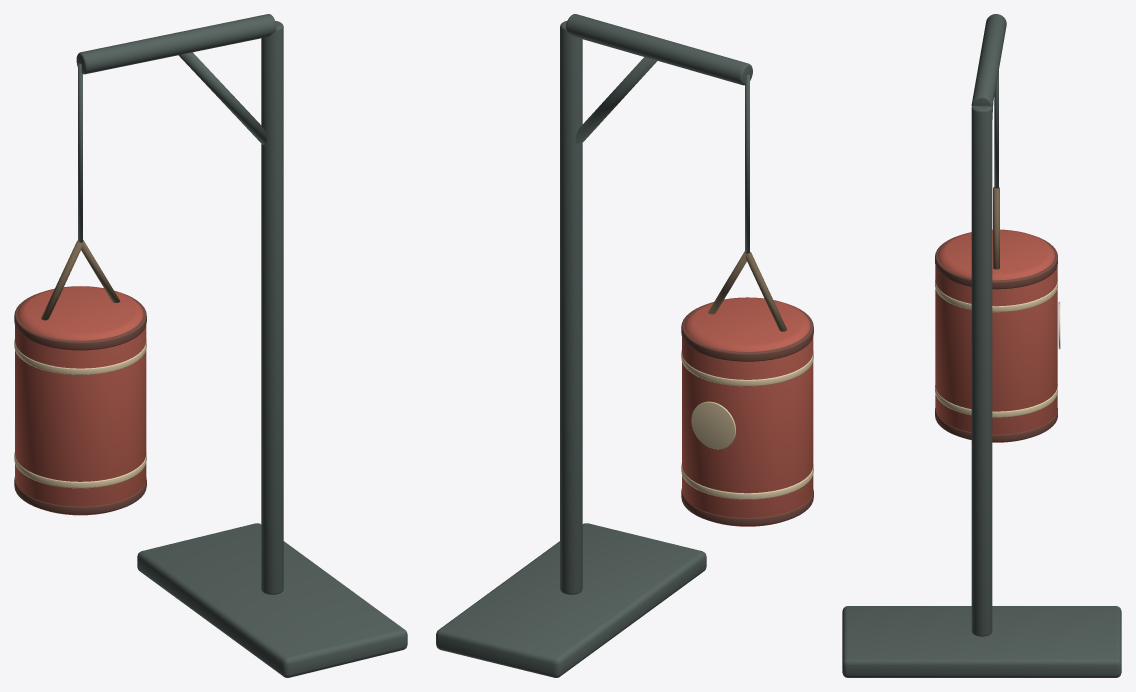
The model's file is punching_bag.glb.
3 renders of one model, left to right at view 1: azimuth 30°, elevation 25°; view 2: azimuth 150°, elevation 25°; view 3: azimuth 270°, elevation 25°, orthographic. The views are drawn at different scales.
Visible parts, largest first — view 1: Leather bag, Weighted support base, Upright, Top support, Leather binding.001, Diagonal brace, Leather binding, Cream band, Cream band.001, Hanging link, Suspension strap; view 2: Leather bag, Weighted support base, Upright, Top support, Round target, Leather binding.001, Diagonal brace, Leather binding, Cream band.001, Cream band, Hanging link, Suspension strap; view 3: Weighted support base, Leather bag, Upright, Top support, Leather binding.001, Leather binding, Cream band.001, Cream band, Suspension strap.001, Hanging link.
Boxes of the visible parts, x1,y1,x2,y2 form: Leather bag: (15,286,146,515); Weighted support base: (137,523,407,677); Upright: (261,21,283,594); Top support: (76,14,276,74); Leather binding.001: (14,292,146,350); Diagonal brace: (179,52,266,144); Leather binding: (14,477,146,514); Cream band: (14,452,146,488); Cream band.001: (14,339,146,374); Hanging link: (78,63,82,242); Suspension strap: (41,240,82,320); Leather bag: (682,297,813,526); Weighted support base: (436,523,706,677); Upright: (560,20,582,594); Top support: (566,14,752,85); Round target: (691,401,735,449); Leather binding.001: (681,304,813,361); Diagonal brace: (575,57,657,145); Leather binding: (681,488,813,526); Cream band.001: (681,350,813,386); Cream band: (681,463,813,499); Hanging link: (745,74,749,254); Suspension strap: (745,252,786,331); Weighted support base: (842,606,1121,677); Leather bag: (935,229,1057,442); Upright: (971,106,992,636); Top support: (971,14,1006,106); Leather binding.001: (935,236,1057,289); Leather binding: (935,408,1057,442); Cream band.001: (935,279,1057,312); Cream band: (935,385,1057,417); Suspension strap.001: (993,188,999,269); Hanging link: (994,70,998,188).
Size of the model in its own units: 0.561 by 1.05 by 0.48.
